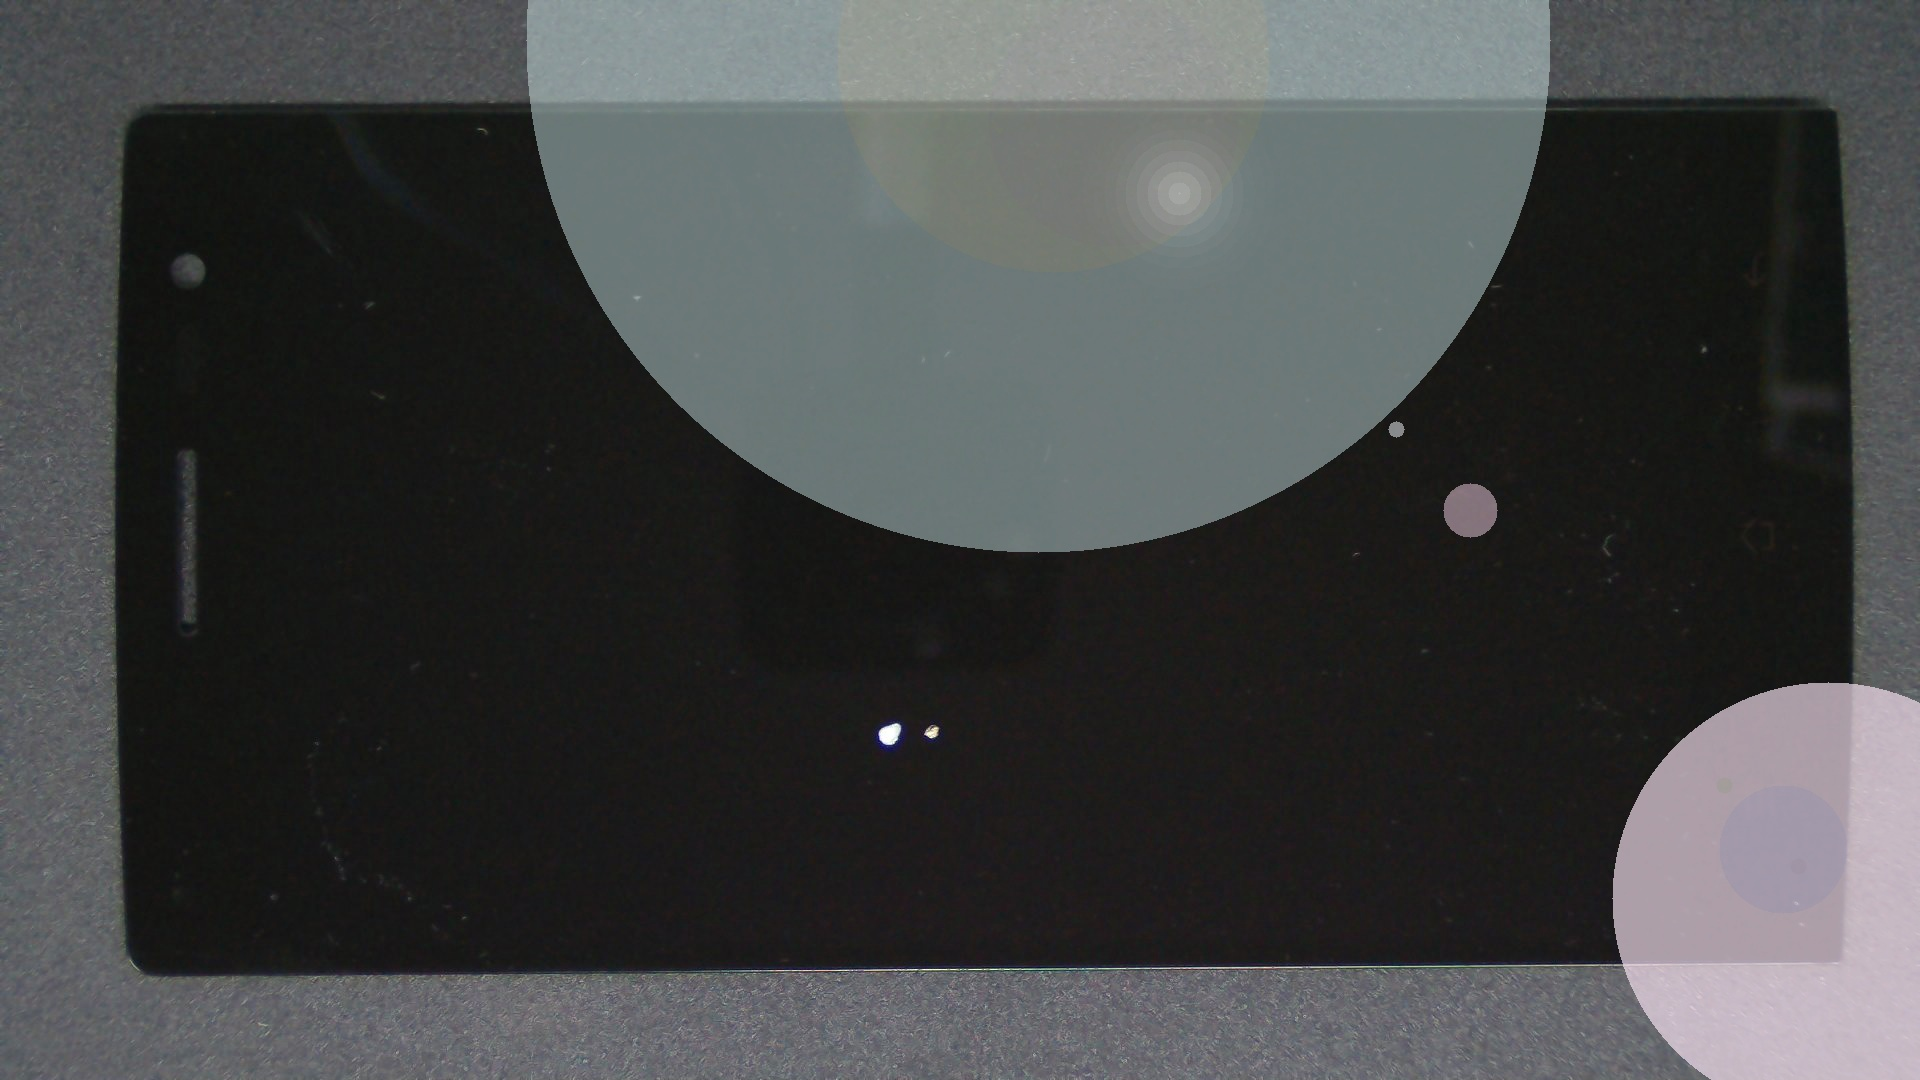oil: (465, 361, 1394, 1080), (448, 360, 1342, 1080)
